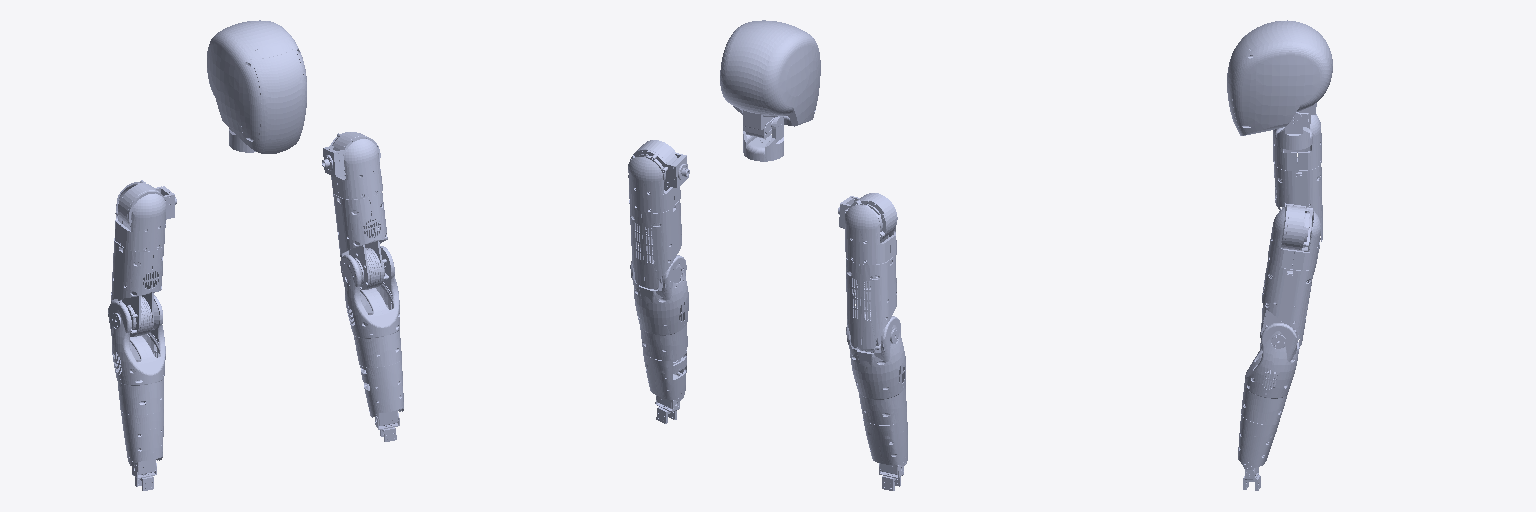
robot.urdf — EVA:
<?xml version="1.0" encoding="utf-8"?>
<!-- This URDF was automatically created by SolidWorks to URDF Exporter! Originally created by [author] ([email redacted]) 
     Commit Version: 1.6.0-4-g7f85cfe  Build Version: 1.6.7995.38578
     For more information, please see http://wiki.ros.org/sw_urdf_exporter -->
<robot
  name="EVA">
  <link
    name="Body">
    <inertial>
      <origin
        xyz="-0.107734016351388 0.659731332728757 0.508650513115946"
        rpy="0 0 0" />
      <mass
        value="15.9181025412927" />
      <inertia
        ixx="0.1391767266026"
        ixy="2.3340555615011E-05"
        ixz="4.3354771729121E-05"
        iyy="0.178873989376265"
        iyz="0.0026778021342176"
        izz="0.269632365734801" />
    </inertial>
    <visual>
      <origin
        xyz="0 0 0"
        rpy="0 0 0" />
      <geometry>
        <mesh
          filename="package://EVA/meshes/Body.STL" />
      </geometry>
      <material
        name="">
        <color
          rgba="0.792156862745098 0.819607843137255 0.933333333333333 1" />
      </material>
    </visual>
    <collision>
      <origin
        xyz="0 0 0"
        rpy="0 0 0" />
      <geometry>
        <mesh
          filename="package://EVA/meshes/Body.STL" />
      </geometry>
    </collision>
  </link>
  <link
    name="shoulder_link_right">
    <inertial>
      <origin
        xyz="0.0659353112926789 -0.000305561125025555 0.00268201715043215"
        rpy="0 0 0" />
      <mass
        value="0.244967847855837" />
      <inertia
        ixx="0.000175311345034818"
        ixy="4.96815477609741E-06"
        ixz="1.00652784207352E-06"
        iyy="0.000194343643201104"
        iyz="9.01843754904755E-07"
        izz="0.000282432130937247" />
    </inertial>
    <visual>
      <origin
        xyz="0 0 0"
        rpy="0 0 0" />
      <geometry>
        <mesh
          filename="package://EVA/meshes/shoulder_link_right.STL" />
      </geometry>
      <material
        name="">
        <color
          rgba="0.792156862745098 0.819607843137255 0.933333333333333 1" />
      </material>
    </visual>
    <collision>
      <origin
        xyz="0 0 0"
        rpy="0 0 0" />
      <geometry>
        <mesh
          filename="package://EVA/meshes/shoulder_link_right.STL" />
      </geometry>
    </collision>
  </link>
  <joint
    name="shoulder_joint_1"
    type="revolute">
    <origin
      xyz="-0.27121 0.68562 1.5983"
      rpy="1.5475 0 3.1416" />
    <parent
      link="Body" />
    <child
      link="shoulder_link_right" />
    <axis
      xyz="1 0 0" />
    <limit
      lower="0"
      upper="0"
      effort="0"
      velocity="0" />
  </joint>
  <link
    name="upper_bicep_right">
    <inertial>
      <origin
        xyz="2.43679375366845E-06 -0.071236165615566 0.00629386601906845"
        rpy="0 0 0" />
      <mass
        value="0.311132651783736" />
      <inertia
        ixx="0.000217096335824165"
        ixy="9.54783770621328E-09"
        ixz="4.18752047663033E-09"
        iyy="0.000233724350300062"
        iyz="2.24444630363015E-07"
        izz="0.000282948497691461" />
    </inertial>
    <visual>
      <origin
        xyz="0 0 0"
        rpy="0 0 0" />
      <geometry>
        <mesh
          filename="package://EVA/meshes/upper_bicep_right.STL" />
      </geometry>
      <material
        name="">
        <color
          rgba="0.792156862745098 0.819607843137255 0.933333333333333 1" />
      </material>
    </visual>
    <collision>
      <origin
        xyz="0 0 0"
        rpy="0 0 0" />
      <geometry>
        <mesh
          filename="package://EVA/meshes/upper_bicep_right.STL" />
      </geometry>
    </collision>
  </link>
  <joint
    name="upper_bicep_joint_right"
    type="revolute">
    <origin
      xyz="0.072 0 0"
      rpy="0 0 0.040161" />
    <parent
      link="shoulder_link_right" />
    <child
      link="upper_bicep_right" />
    <axis
      xyz="0 0 1" />
    <limit
      lower="0"
      upper="0"
      effort="0"
      velocity="0" />
  </joint>
  <link
    name="lower_bicep_right">
    <inertial>
      <origin
        xyz="0.00226161171027361 -0.121107670603483 0.00217991010289464"
        rpy="0 0 0" />
      <mass
        value="0.322166835687232" />
      <inertia
        ixx="0.000499521054428143"
        ixy="6.3595383873861E-07"
        ixz="2.17092539111734E-07"
        iyy="0.000225423512304702"
        iyz="4.42922084439352E-05"
        izz="0.000351112403798392" />
    </inertial>
    <visual>
      <origin
        xyz="0 0 0"
        rpy="0 0 0" />
      <geometry>
        <mesh
          filename="package://EVA/meshes/lower_bicep_right.STL" />
      </geometry>
      <material
        name="">
        <color
          rgba="0.792156862745098 0.819607843137255 0.933333333333333 1" />
      </material>
    </visual>
    <collision>
      <origin
        xyz="0 0 0"
        rpy="0 0 0" />
      <geometry>
        <mesh
          filename="package://EVA/meshes/lower_bicep_right.STL" />
      </geometry>
    </collision>
  </link>
  <joint
    name="lower_bicep_joint_right"
    type="revolute">
    <origin
      xyz="0 -0.068032 0.00649"
      rpy="0 0.062891 0" />
    <parent
      link="upper_bicep_right" />
    <child
      link="lower_bicep_right" />
    <axis
      xyz="0 1 0" />
    <limit
      lower="0"
      upper="0"
      effort="0"
      velocity="0" />
  </joint>
  <link
    name="elbow_right">
    <inertial>
      <origin
        xyz="-0.00094258106431705 -0.0981772987513228 -0.0018394226728532"
        rpy="0 0 0" />
      <mass
        value="0.619512312185736" />
      <inertia
        ixx="0.00195425558737089"
        ixy="3.11844265051141E-06"
        ixz="3.76108788631733E-08"
        iyy="0.000406802262285126"
        iyz="-6.62460540242866E-05"
        izz="0.00178400389724863" />
    </inertial>
    <visual>
      <origin
        xyz="0 0 0"
        rpy="0 0 0" />
      <geometry>
        <mesh
          filename="package://EVA/meshes/elbow_right.STL" />
      </geometry>
      <material
        name="">
        <color
          rgba="0.792156862745098 0.819607843137255 0.933333333333333 1" />
      </material>
    </visual>
    <collision>
      <origin
        xyz="0 0 0"
        rpy="0 0 0" />
      <geometry>
        <mesh
          filename="package://EVA/meshes/elbow_right.STL" />
      </geometry>
    </collision>
  </link>
  <joint
    name="elbow_right_joint"
    type="revolute">
    <origin
      xyz="0 -0.16597 0"
      rpy="0.19083 0 0" />
    <parent
      link="lower_bicep_right" />
    <child
      link="elbow_right" />
    <axis
      xyz="1 0 0" />
    <limit
      lower="0"
      upper="0"
      effort="0"
      velocity="0" />
  </joint>
  <link
    name="forearm_right">
    <inertial>
      <origin
        xyz="0.000903956953788143 -0.0549583039429378 -0.000615705487273965"
        rpy="0 0 0" />
      <mass
        value="0.147650502703712" />
      <inertia
        ixx="0.000114134079059838"
        ixy="8.53653162045627E-08"
        ixz="-8.57988731085453E-08"
        iyy="8.57580825503249E-05"
        iyz="1.38676158975273E-06"
        izz="0.000161288764751938" />
    </inertial>
    <visual>
      <origin
        xyz="0 0 0"
        rpy="0 0 0" />
      <geometry>
        <mesh
          filename="package://EVA/meshes/forearm_right.STL" />
      </geometry>
      <material
        name="">
        <color
          rgba="0.792156862745098 0.819607843137255 0.933333333333333 1" />
      </material>
    </visual>
    <collision>
      <origin
        xyz="0 0 0"
        rpy="0 0 0" />
      <geometry>
        <mesh
          filename="package://EVA/meshes/forearm_right.STL" />
      </geometry>
    </collision>
  </link>
  <joint
    name="forearm_joint_right"
    type="revolute">
    <origin
      xyz="0.0007775 -0.17588 -0.004924"
      rpy="-3.1416 -1.4912 -3.1416" />
    <parent
      link="elbow_right" />
    <child
      link="forearm_right" />
    <axis
      xyz="0 1 0" />
    <limit
      lower="0"
      upper="0"
      effort="0"
      velocity="0" />
  </joint>
  <link
    name="wrist_right">
    <inertial>
      <origin
        xyz="-0.00174123493846179 -0.0201770355385047 -0.00070854093116135"
        rpy="0 0 0" />
      <mass
        value="0.0396774088963826" />
      <inertia
        ixx="6.21385948553506E-06"
        ixy="-1.72978017813527E-07"
        ixz="-3.69971721268733E-09"
        iyy="4.22430935636149E-06"
        iyz="-4.29091194927146E-08"
        izz="6.49665909114042E-06" />
    </inertial>
    <visual>
      <origin
        xyz="0 0 0"
        rpy="0 0 0" />
      <geometry>
        <mesh
          filename="package://EVA/meshes/wrist_right.STL" />
      </geometry>
      <material
        name="">
        <color
          rgba="0.792156862745098 0.819607843137255 0.933333333333333 1" />
      </material>
    </visual>
    <collision>
      <origin
        xyz="0 0 0"
        rpy="0 0 0" />
      <geometry>
        <mesh
          filename="package://EVA/meshes/wrist_right.STL" />
      </geometry>
    </collision>
  </link>
  <joint
    name="wrist_joint_right"
    type="revolute">
    <origin
      xyz="0.00054195 -0.11015 0"
      rpy="3.1416 0 -3.0683" />
    <parent
      link="forearm_right" />
    <child
      link="wrist_right" />
    <axis
      xyz="0 0 1" />
    <limit
      lower="0"
      upper="0"
      effort="0"
      velocity="0" />
  </joint>
  <link
    name="shoulder_link_left">
    <inertial>
      <origin
        xyz="-0.0659353116500655 -0.00030556113220026 0.00268201727405593"
        rpy="0 0 0" />
      <mass
        value="0.244967847147866" />
      <inertia
        ixx="0.000175309571597301"
        ixy="-4.9681547073878E-06"
        ixz="-1.00652785389991E-06"
        iyy="0.000194342756584183"
        iyz="9.01843989819471E-07"
        izz="0.000282431244223072" />
    </inertial>
    <visual>
      <origin
        xyz="0 0 0"
        rpy="0 0 0" />
      <geometry>
        <mesh
          filename="package://EVA/meshes/shoulder_link_left.STL" />
      </geometry>
      <material
        name="">
        <color
          rgba="0.792156862745098 0.819607843137255 0.933333333333333 1" />
      </material>
    </visual>
    <collision>
      <origin
        xyz="0 0 0"
        rpy="0 0 0" />
      <geometry>
        <mesh
          filename="package://EVA/meshes/shoulder_link_left.STL" />
      </geometry>
    </collision>
  </link>
  <joint
    name="shoulder_joint_left"
    type="revolute">
    <origin
      xyz="0.061791 0.68562 1.5983"
      rpy="1.7195 0 -3.1416" />
    <parent
      link="Body" />
    <child
      link="shoulder_link_left" />
    <axis
      xyz="1 0 0" />
    <limit
      lower="0"
      upper="0"
      effort="0"
      velocity="0" />
  </joint>
  <link
    name="upper_bicep_left">
    <inertial>
      <origin
        xyz="2.42930686815968E-05 -0.0712019079969899 0.00623567936620517"
        rpy="0 0 0" />
      <mass
        value="0.31166104857089" />
      <inertia
        ixx="0.00021711093947791"
        ixy="-9.62565671662657E-09"
        ixz="-4.32372566723452E-09"
        iyy="0.000233732893819241"
        iyz="2.24559204998025E-07"
        izz="0.000282971472575617" />
    </inertial>
    <visual>
      <origin
        xyz="0 0 0"
        rpy="0 0 0" />
      <geometry>
        <mesh
          filename="package://EVA/meshes/upper_bicep_left.STL" />
      </geometry>
      <material
        name="">
        <color
          rgba="0.792156862745098 0.819607843137255 0.933333333333333 1" />
      </material>
    </visual>
    <collision>
      <origin
        xyz="0 0 0"
        rpy="0 0 0" />
      <geometry>
        <mesh
          filename="package://EVA/meshes/upper_bicep_left.STL" />
      </geometry>
    </collision>
  </link>
  <joint
    name="upper_bicep_joint_left"
    type="revolute">
    <origin
      xyz="-0.072 0 0"
      rpy="0 0 -0.0396" />
    <parent
      link="shoulder_link_left" />
    <child
      link="upper_bicep_left" />
    <axis
      xyz="0 0 1" />
    <limit
      lower="0"
      upper="0"
      effort="0"
      velocity="0" />
  </joint>
  <link
    name="lower_bicep_left">
    <inertial>
      <origin
        xyz="-0.00222792975009037 -0.110234327650065 0.00222883572732563"
        rpy="0 0 0" />
      <mass
        value="0.322694349979604" />
      <inertia
        ixx="0.000499533072657194"
        ixy="-6.38986919600264E-07"
        ixz="-2.11448159171085E-07"
        iyy="0.000225426606354168"
        iyz="4.42897190417115E-05"
        izz="0.000351129453366693" />
    </inertial>
    <visual>
      <origin
        xyz="0 0 0"
        rpy="0 0 0" />
      <geometry>
        <mesh
          filename="package://EVA/meshes/lower_bicep_left.STL" />
      </geometry>
      <material
        name="">
        <color
          rgba="0.792156862745098 0.819607843137255 0.933333333333333 1" />
      </material>
    </visual>
    <collision>
      <origin
        xyz="0 0 0"
        rpy="0 0 0" />
      <geometry>
        <mesh
          filename="package://EVA/meshes/lower_bicep_left.STL" />
      </geometry>
    </collision>
  </link>
  <joint
    name="lower_bicep_joint_left"
    type="revolute">
    <origin
      xyz="0 -0.078872 0.00649"
      rpy="0 -0.048772 0" />
    <parent
      link="upper_bicep_left" />
    <child
      link="lower_bicep_left" />
    <axis
      xyz="0 1 0" />
    <limit
      lower="0"
      upper="0"
      effort="0"
      velocity="0" />
  </joint>
  <link
    name="elbow_left">
    <inertial>
      <origin
        xyz="0.000934902579112051 -0.0981768256465745 -0.00183991845032977"
        rpy="0 0 0" />
      <mass
        value="0.619496301101077" />
      <inertia
        ixx="0.00195404187524095"
        ixy="-3.12818087653027E-06"
        ixz="-4.81039900483333E-08"
        iyy="0.000406783843710147"
        iyz="-6.62849456666047E-05"
        izz="0.00178379545432578" />
    </inertial>
    <visual>
      <origin
        xyz="0 0 0"
        rpy="0 0 0" />
      <geometry>
        <mesh
          filename="package://EVA/meshes/elbow_left.STL" />
      </geometry>
      <material
        name="">
        <color
          rgba="0.792156862745098 0.819607843137255 0.933333333333333 1" />
      </material>
    </visual>
    <collision>
      <origin
        xyz="0 0 0"
        rpy="0 0 0" />
      <geometry>
        <mesh
          filename="package://EVA/meshes/elbow_left.STL" />
      </geometry>
    </collision>
  </link>
  <joint
    name="elbow_joint_left"
    type="revolute">
    <origin
      xyz="0 -0.15513 0"
      rpy="0.036956 0 0" />
    <parent
      link="lower_bicep_left" />
    <child
      link="elbow_left" />
    <axis
      xyz="1 0 0" />
    <limit
      lower="0"
      upper="0"
      effort="0"
      velocity="0" />
  </joint>
  <link
    name="forearm_left">
    <inertial>
      <origin
        xyz="-0.000912376425615591 -0.0509428385942439 -0.000622968271877633"
        rpy="0 0 0" />
      <mass
        value="0.147743262755097" />
      <inertia
        ixx="0.000114156584508891"
        ixy="-8.78305200991494E-08"
        ixz="8.4572989687032E-08"
        iyy="8.5765743107491E-05"
        iyz="1.3856005110522E-06"
        izz="0.000161299855636694" />
    </inertial>
    <visual>
      <origin
        xyz="0 0 0"
        rpy="0 0 0" />
      <geometry>
        <mesh
          filename="package://EVA/meshes/forearm_left.STL" />
      </geometry>
      <material
        name="">
        <color
          rgba="0.792156862745098 0.819607843137255 0.933333333333333 1" />
      </material>
    </visual>
    <collision>
      <origin
        xyz="0 0 0"
        rpy="0 0 0" />
      <geometry>
        <mesh
          filename="package://EVA/meshes/forearm_left.STL" />
      </geometry>
    </collision>
  </link>
  <joint
    name="forearm_left_joint"
    type="revolute">
    <origin
      xyz="-0.0007774999725563 -0.179883400663702 -0.00492402137391595"
      rpy="0 1.38052530313004 0" />
    <parent
      link="elbow_left" />
    <child
      link="forearm_left" />
    <axis
      xyz="0 1 0" />
    <limit
      lower="0"
      upper="0"
      effort="0"
      velocity="0" />
  </joint>
  <link
    name="wrist_left">
    <inertial>
      <origin
        xyz="0.00174123363454304 -0.020177036909432 -0.000708547982410407"
        rpy="0 0 0" />
      <mass
        value="0.0396773954897013" />
      <inertia
        ixx="6.21385824858795E-06"
        ixy="1.72978082506382E-07"
        ixz="3.69981460821489E-09"
        iyy="4.2243086970329E-06"
        iyz="-4.29092054131682E-08"
        izz="6.49665731979543E-06" />
    </inertial>
    <visual>
      <origin
        xyz="0 0 0"
        rpy="0 0 0" />
      <geometry>
        <mesh
          filename="package://EVA/meshes/wrist_left.STL" />
      </geometry>
      <material
        name="">
        <color
          rgba="0.792156862745098 0.819607843137255 0.933333333333333 1" />
      </material>
    </visual>
    <collision>
      <origin
        xyz="0 0 0"
        rpy="0 0 0" />
      <geometry>
        <mesh
          filename="package://EVA/meshes/wrist_left.STL" />
      </geometry>
    </collision>
  </link>
  <joint
    name="wrist_joint_left"
    type="revolute">
    <origin
      xyz="-0.00054195 -0.10615 0"
      rpy="0 0 -0.2757" />
    <parent
      link="forearm_left" />
    <child
      link="wrist_left" />
    <axis
      xyz="0 0 1" />
    <limit
      lower="0"
      upper="0"
      effort="0"
      velocity="0" />
  </joint>
  <link
    name="neck_link">
    <inertial>
      <origin
        xyz="2.44110287539456E-14 0.0263208774927388 2.22044604925031E-16"
        rpy="0 0 0" />
      <mass
        value="0.126175040674599" />
      <inertia
        ixx="8.27555077333761E-05"
        ixy="5.30925702563437E-19"
        ixz="-6.90908141457361E-11"
        iyy="0.000117501706916794"
        iyz="-2.57814849426602E-20"
        izz="0.000117550416671383" />
    </inertial>
    <visual>
      <origin
        xyz="0 0 0"
        rpy="0 0 0" />
      <geometry>
        <mesh
          filename="package://EVA/meshes/neck_link.STL" />
      </geometry>
      <material
        name="">
        <color
          rgba="0.792156862745098 0.819607843137255 0.933333333333333 1" />
      </material>
    </visual>
    <collision>
      <origin
        xyz="0 0 0"
        rpy="0 0 0" />
      <geometry>
        <mesh
          filename="package://EVA/meshes/neck_link.STL" />
      </geometry>
    </collision>
  </link>
  <joint
    name="neck_joint"
    type="revolute">
    <origin
      xyz="-0.1051 0.68562 1.68"
      rpy="1.5708 0 0.020051" />
    <parent
      link="Body" />
    <child
      link="neck_link" />
    <axis
      xyz="0 1 0" />
    <limit
      lower="0"
      upper="0"
      effort="0"
      velocity="0" />
  </joint>
  <link
    name="head">
    <inertial>
      <origin
        xyz="0.000991744241927564 0.0958877295173339 -0.00640046453276655"
        rpy="0 0 0" />
      <mass
        value="2.56822385057224" />
      <inertia
        ixx="0.00967500781191765"
        ixy="9.79957388269475E-05"
        ixz="0.000302201548853905"
        iyy="0.00769699755911586"
        iyz="-0.000444237801130295"
        izz="0.0109247237456425" />
    </inertial>
    <visual>
      <origin
        xyz="0 0 0"
        rpy="0 0 0" />
      <geometry>
        <mesh
          filename="package://EVA/meshes/head.STL" />
      </geometry>
      <material
        name="">
        <color
          rgba="0.792156862745098 0.819607843137255 0.933333333333333 1" />
      </material>
    </visual>
    <collision>
      <origin
        xyz="0 0 0"
        rpy="0 0 0" />
      <geometry>
        <mesh
          filename="package://EVA/meshes/head.STL" />
      </geometry>
    </collision>
  </link>
  <joint
    name="head_joint"
    type="revolute">
    <origin
      xyz="0 0.065 0"
      rpy="-3.1372 0 3.1416" />
    <parent
      link="neck_link" />
    <child
      link="head" />
    <axis
      xyz="1 0 0" />
    <limit
      lower="0"
      upper="0"
      effort="0"
      velocity="0" />
  </joint>
</robot>

--- Render facts (derived) ---
3 views of the same robot in one strip: view 1: azimuth 30°, elevation 25°; view 2: azimuth 150°, elevation 25°; view 3: azimuth 270°, elevation 25° (orthographic).
Robot: EVA — 15 links, 14 joints (14 revolute); root link Body; default pose: all joints at 0.
Visible links, largest first — view 1: head, elbow_left, elbow_right, lower_bicep_left, lower_bicep_right, upper_bicep_right, upper_bicep_left, forearm_right, forearm_left, shoulder_link_right, shoulder_link_left, wrist_right (+1 smaller); view 2: head, elbow_right, elbow_left, lower_bicep_right, lower_bicep_left, upper_bicep_right, upper_bicep_left, forearm_right, forearm_left, shoulder_link_left, shoulder_link_right, neck_link; view 3: head, elbow_left, lower_bicep_left, lower_bicep_right, upper_bicep_left, forearm_left, upper_bicep_right, shoulder_link_left, neck_link.
Link boxes in pixels (box(x1,y1,x2,y2)): head: box(207, 20, 306, 153); elbow_left: box(340, 246, 401, 367); elbow_right: box(108, 295, 165, 414); lower_bicep_left: box(333, 192, 388, 289); lower_bicep_right: box(111, 238, 163, 336); upper_bicep_right: box(115, 182, 165, 272); upper_bicep_left: box(330, 132, 382, 220); forearm_right: box(121, 409, 163, 465); forearm_left: box(360, 360, 403, 417); shoulder_link_right: box(115, 180, 176, 226); shoulder_link_left: box(322, 132, 380, 176); wrist_right: box(132, 458, 158, 490); head: box(720, 20, 820, 138); elbow_right: box(846, 316, 906, 424); elbow_left: box(630, 255, 688, 360); lower_bicep_right: box(846, 255, 896, 352); lower_bicep_left: box(629, 200, 681, 290); upper_bicep_right: box(845, 205, 896, 287); upper_bicep_left: box(628, 157, 680, 231); forearm_right: box(863, 414, 907, 465); forearm_left: box(643, 350, 686, 401); shoulder_link_left: box(628, 140, 689, 188); shoulder_link_right: box(838, 193, 897, 240); neck_link: box(743, 116, 783, 161); head: box(1227, 20, 1332, 135); elbow_left: box(1241, 323, 1299, 424); lower_bicep_left: box(1260, 261, 1313, 346); lower_bicep_right: box(1274, 157, 1322, 241); upper_bicep_left: box(1268, 207, 1320, 282); forearm_left: box(1238, 414, 1279, 469); upper_bicep_right: box(1273, 114, 1321, 181); shoulder_link_left: box(1281, 203, 1312, 251); neck_link: box(1275, 112, 1312, 149).
Size in the robot's own frame: 0.6058 by 0.2161 by 0.9184 metres.
Meshes: 15 distinct files referenced, 14 mesh visuals loaded (14 binary STL); not drawn: 1 (reference not matched to a file when rendering).
